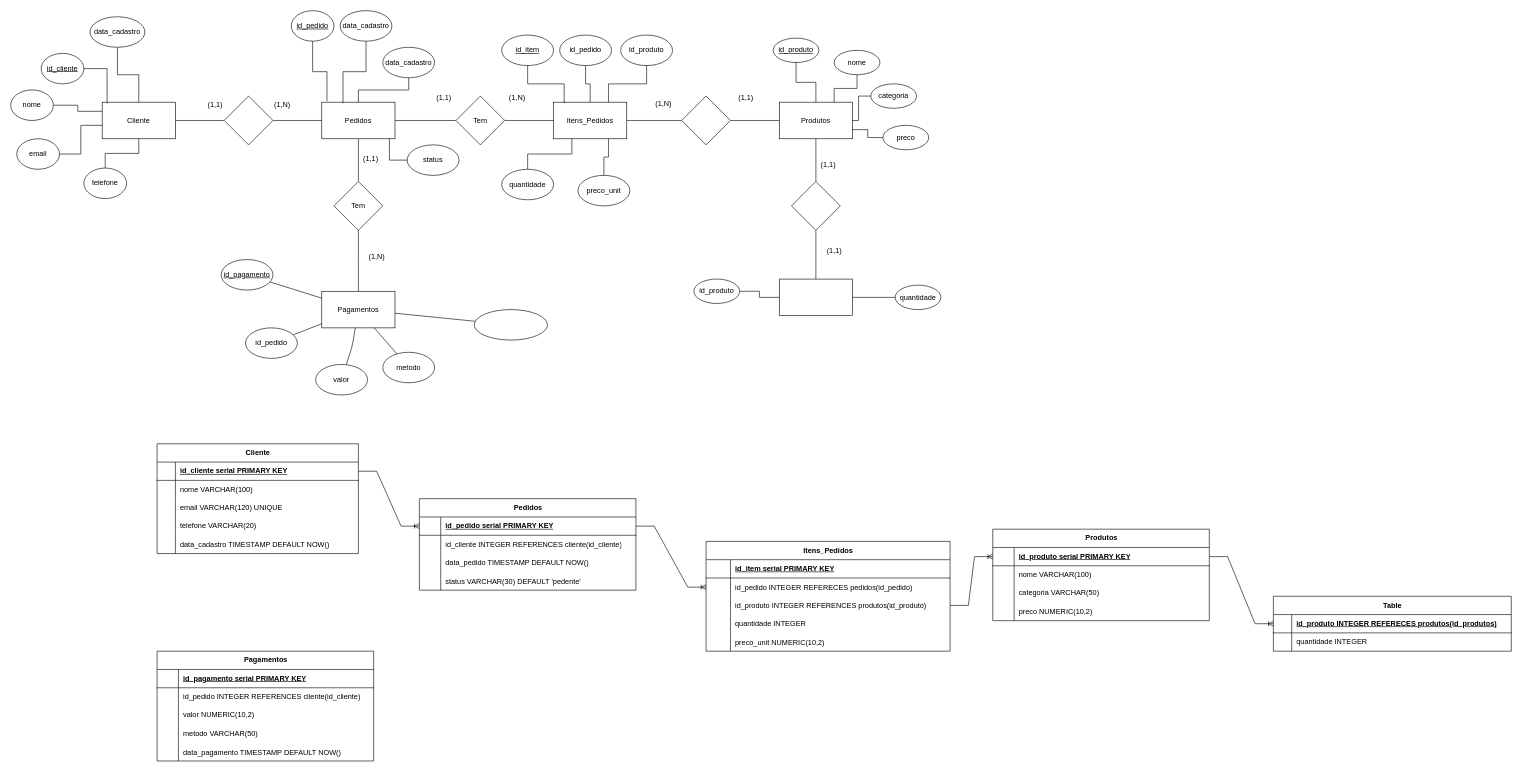
The diagram is 1522 pixels wide and 772 high, and some of its shapes have lost their labels. The shapes that lost their labels are listed below. From the top down, each one's centre as x and y in pixels, then its label:
At pixel 248 120: "Faz".
At pixel 705 120: "Relacao".
At pixel 815 205: "Em".
At pixel 815 297: "Estoque".
At pixel 510 324: "data_pagamento".
